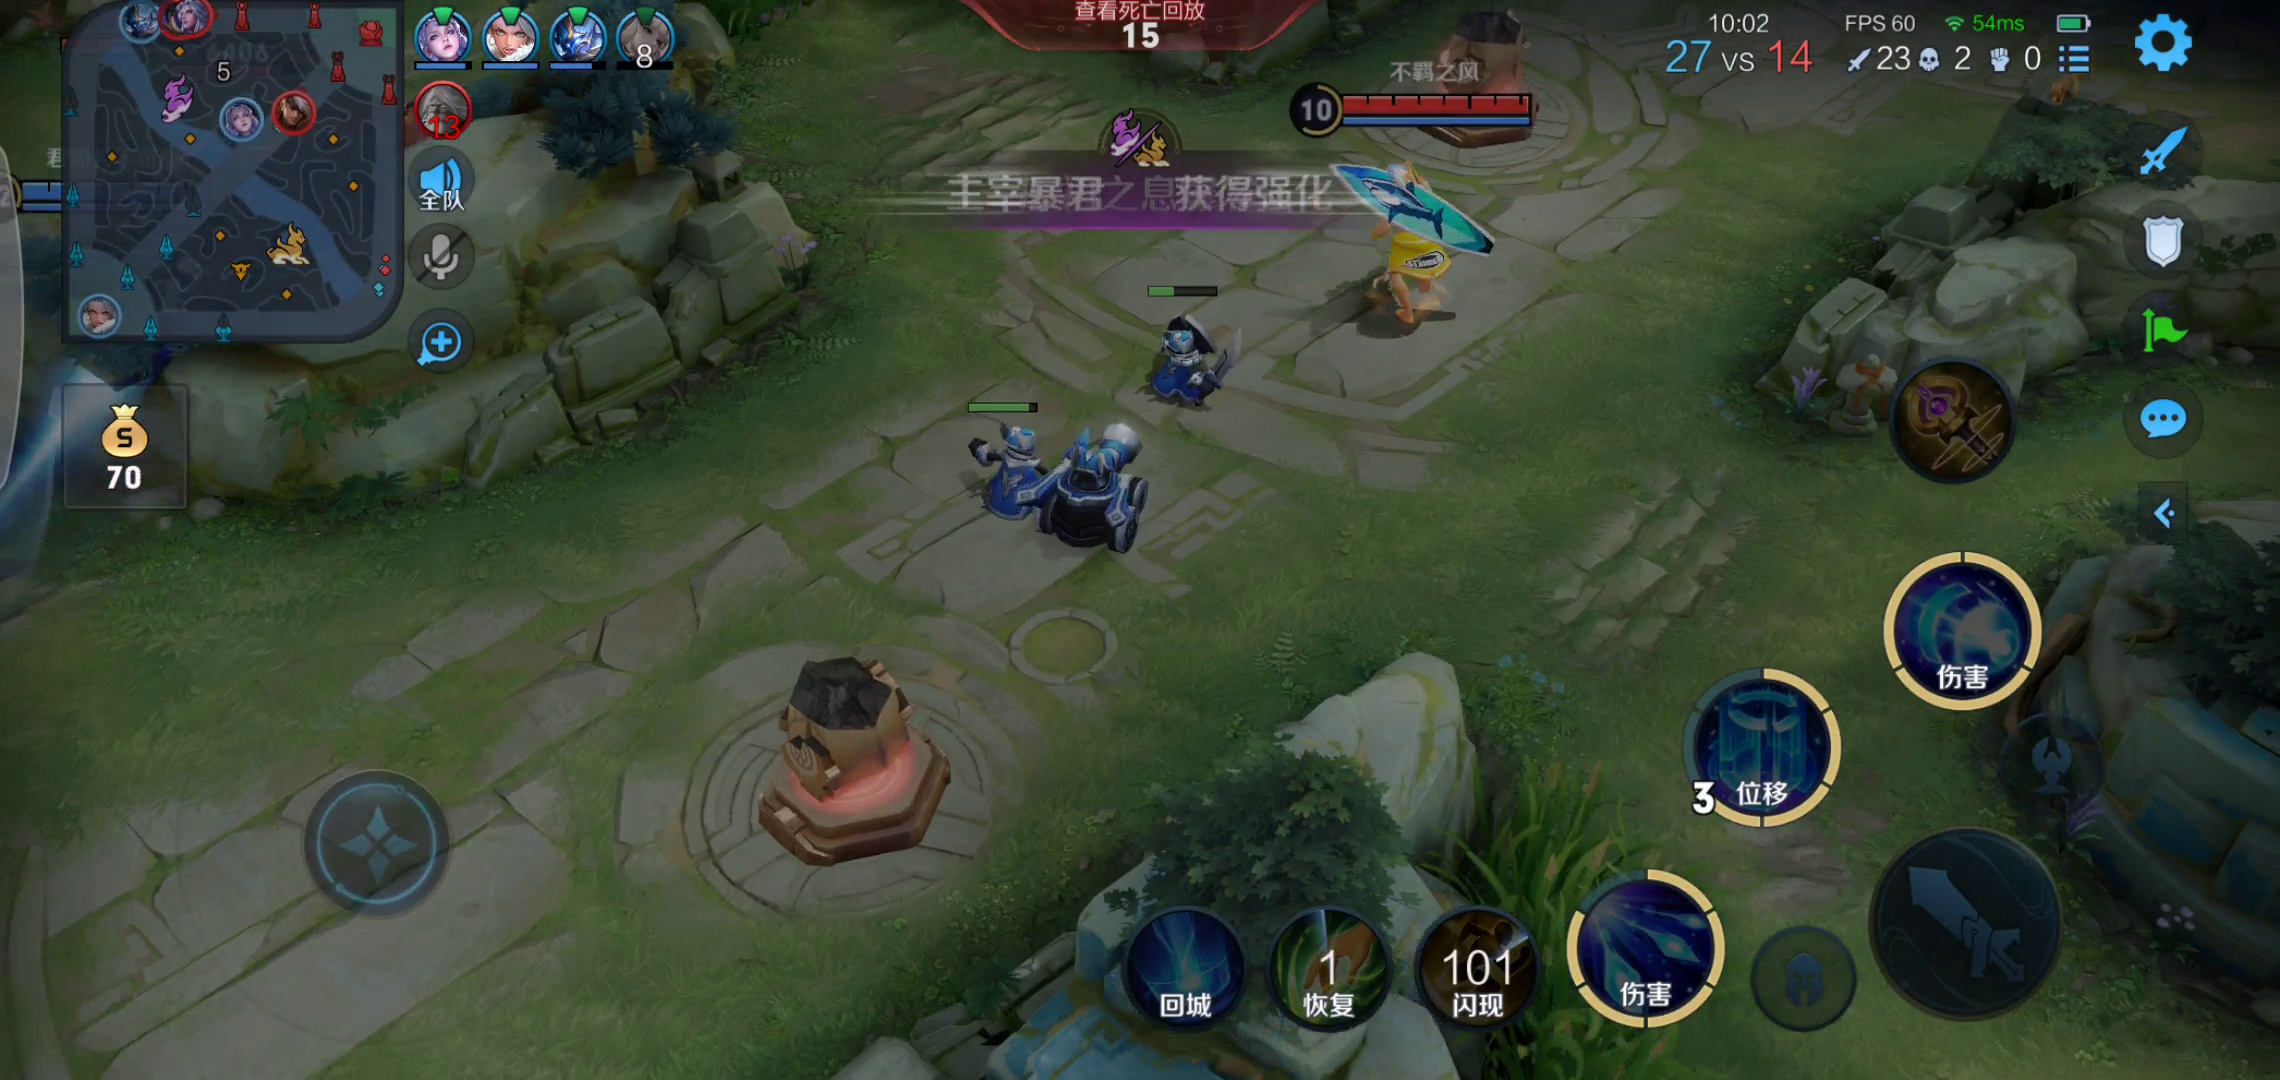grass: (1432, 746, 1713, 1070)
hero: (1341, 157, 1498, 336)
soldier: (1140, 314, 1255, 419), (1051, 427, 1150, 547), (960, 427, 1048, 525)
tower: (1415, 15, 1565, 148)
